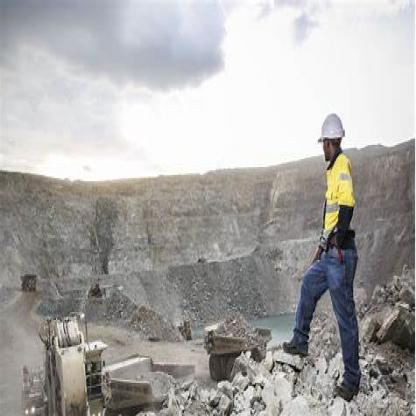person: (282, 95, 371, 397)
